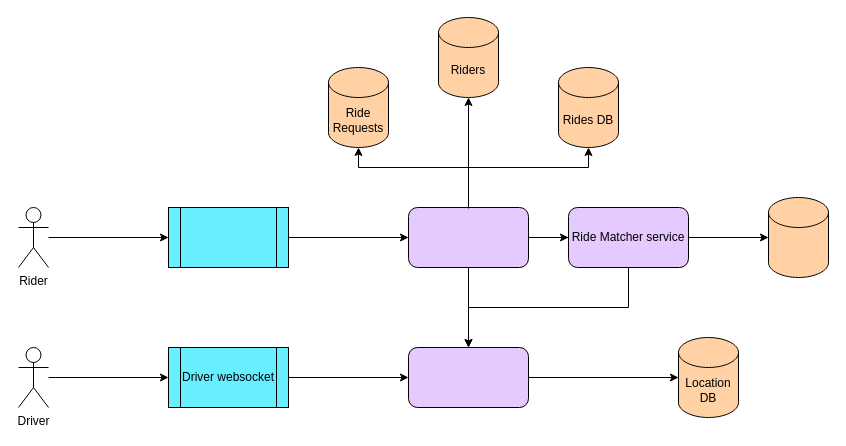
Image size: 846x446. Some labels were removed from this diagram. Each missing label, with the centre of its shape:
Drivers: point 798,237
Location service: point 468,377
Rider websocket: point 228,237
Rides Service: point 468,237
